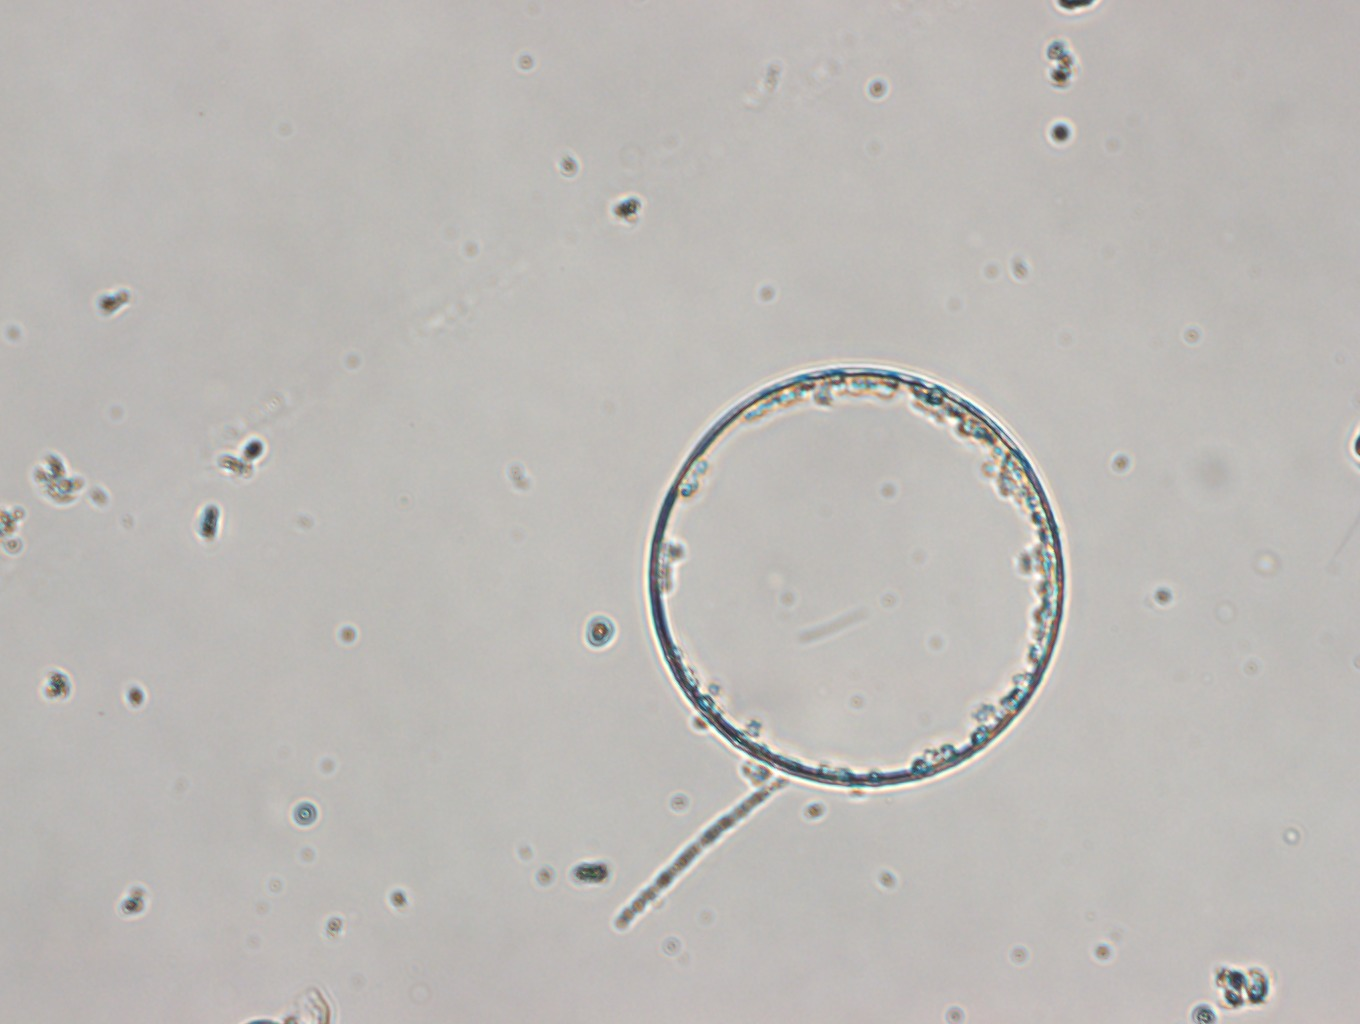coscinodiscus: (643, 359, 1066, 790)
